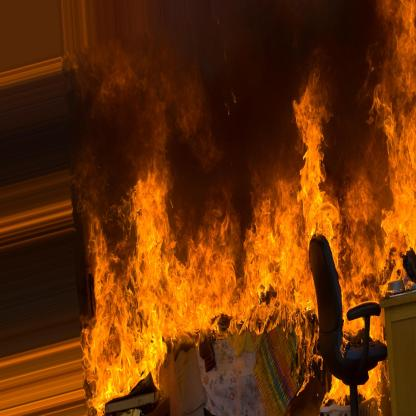fire: (77, 35, 409, 400)
